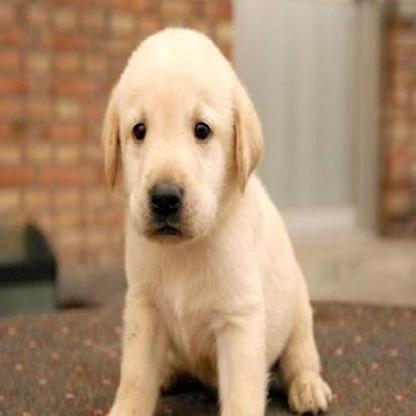dog: (102, 27, 334, 416)
